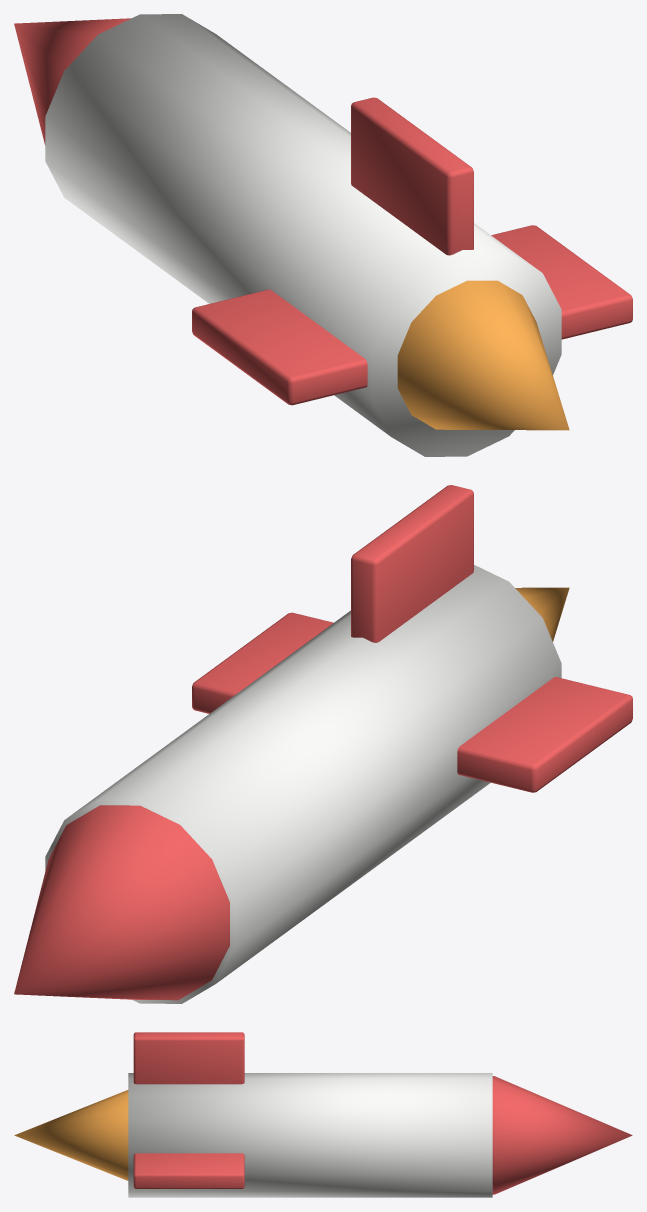
Rendered from rocket.glb.
3 views of the same model, one above another, from view 1: azimuth 30°, elevation 25°; view 2: azimuth 150°, elevation 25°; view 3: azimuth 270°, elevation 25° (orthographic). The views are drawn at different scales.
Visible parts, largest first — view 1: Body.001, Flame, FinT, FinL, FinR, Nose; view 2: Body.001, Nose, FinT, FinL, FinR, Flame; view 3: Body.001, Nose, FinT, Flame, FinR.
Part boxes in pixels (left/top/right/bottom): Body.001: left=45, top=14, right=561, bottom=456; Flame: left=397, top=280, right=569, bottom=430; FinT: left=351, top=97, right=473, bottom=255; FinL: left=192, top=289, right=367, bottom=405; FinR: left=491, top=225, right=632, bottom=339; Nose: left=14, top=18, right=130, bottom=145; Body.001: left=45, top=565, right=561, bottom=1003; Nose: left=14, top=805, right=229, bottom=1000; FinT: left=351, top=485, right=473, bottom=642; FinL: left=457, top=677, right=632, bottom=792; FinR: left=192, top=612, right=333, bottom=713; Flame: left=515, top=587, right=569, bottom=641; Body.001: left=128, top=1073, right=492, bottom=1197; Nose: left=492, top=1076, right=632, bottom=1194; FinT: left=133, top=1032, right=244, bottom=1084; Flame: left=14, top=1090, right=128, bottom=1180; FinR: left=133, top=1153, right=244, bottom=1188.
Size of the model in its own units: 0.64 by 0.5 by 1.79.
